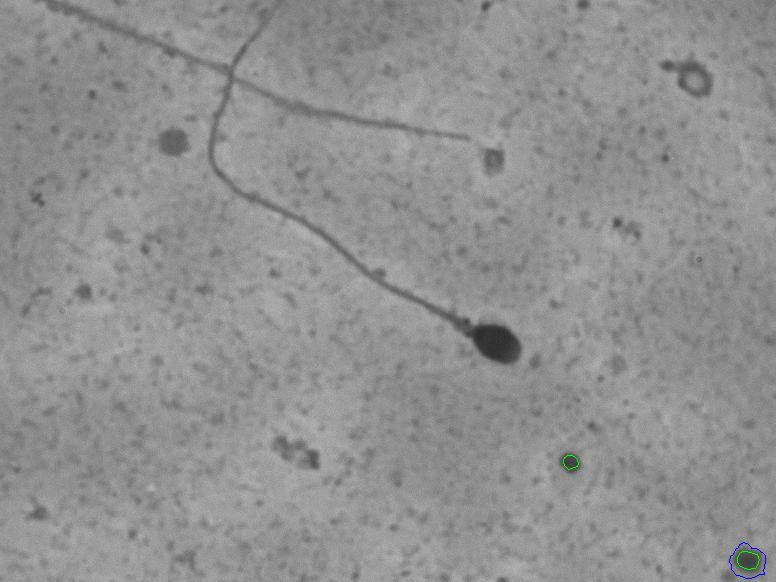Normal: (192, 12, 535, 381)
